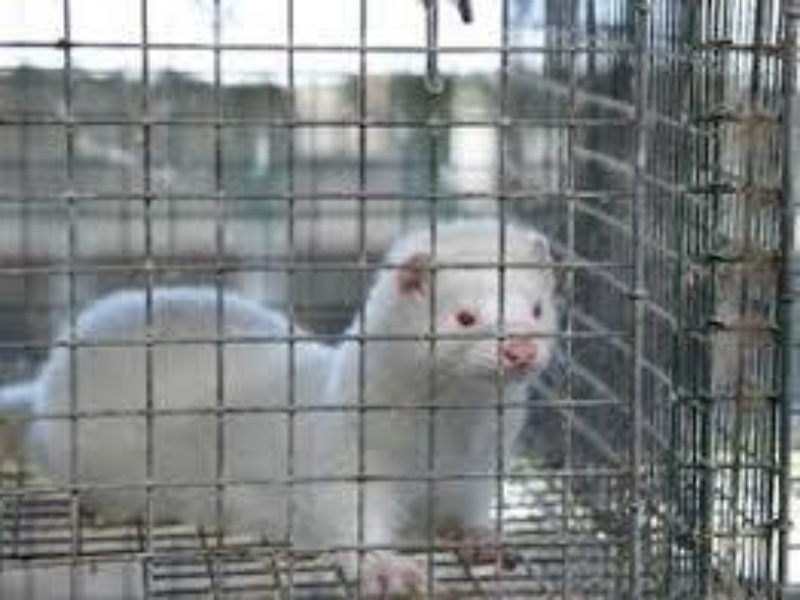minkish: (5, 212, 559, 597)
